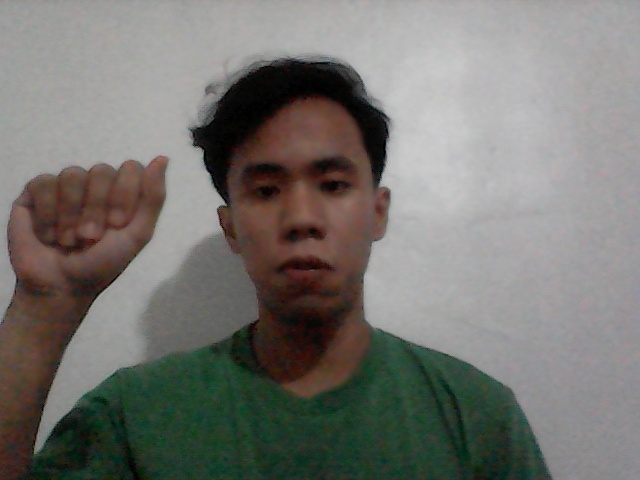A: (1, 134, 188, 326)
